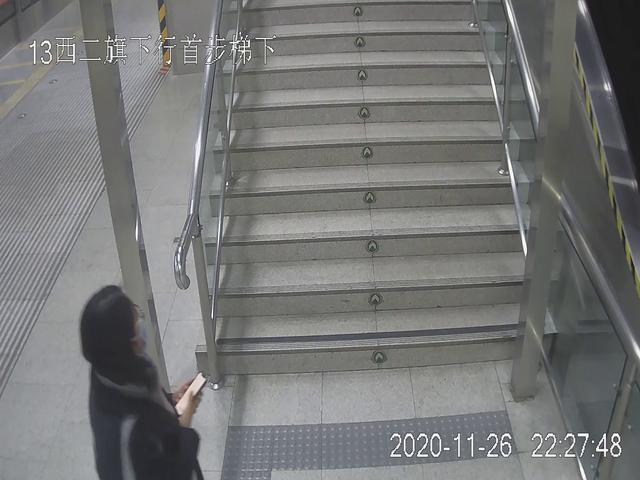person: (73, 278, 220, 480)
